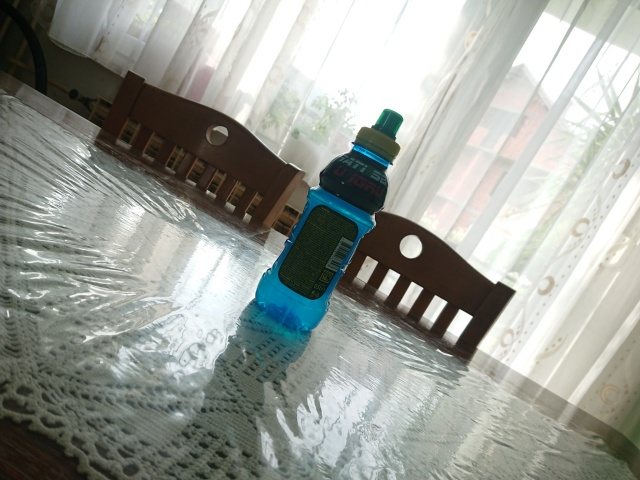Vindi Iso Sport Forest Strawberries 500mL: (251, 106, 405, 335)
